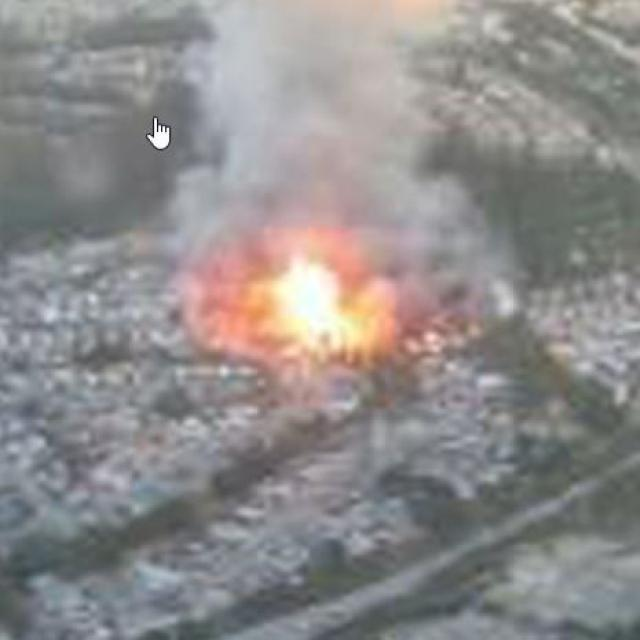Fire: (275, 274, 338, 357)
Smoke: (212, 17, 484, 326)
